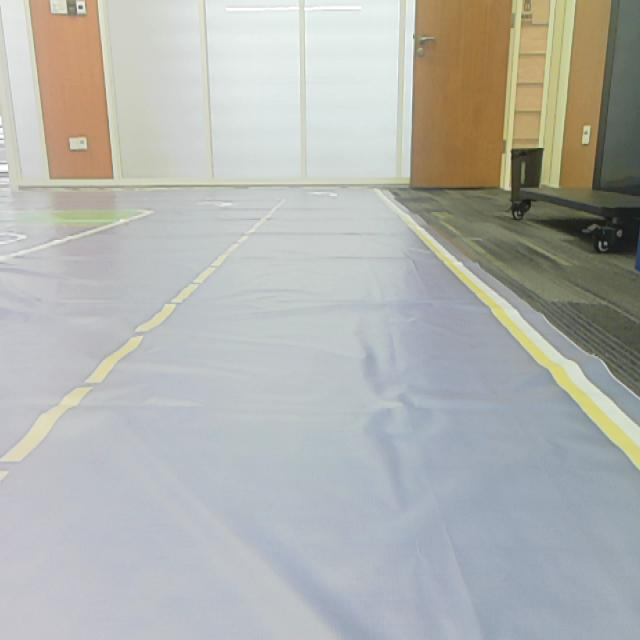left_lane: (2, 200, 280, 461)
right_lane: (382, 196, 640, 472)
